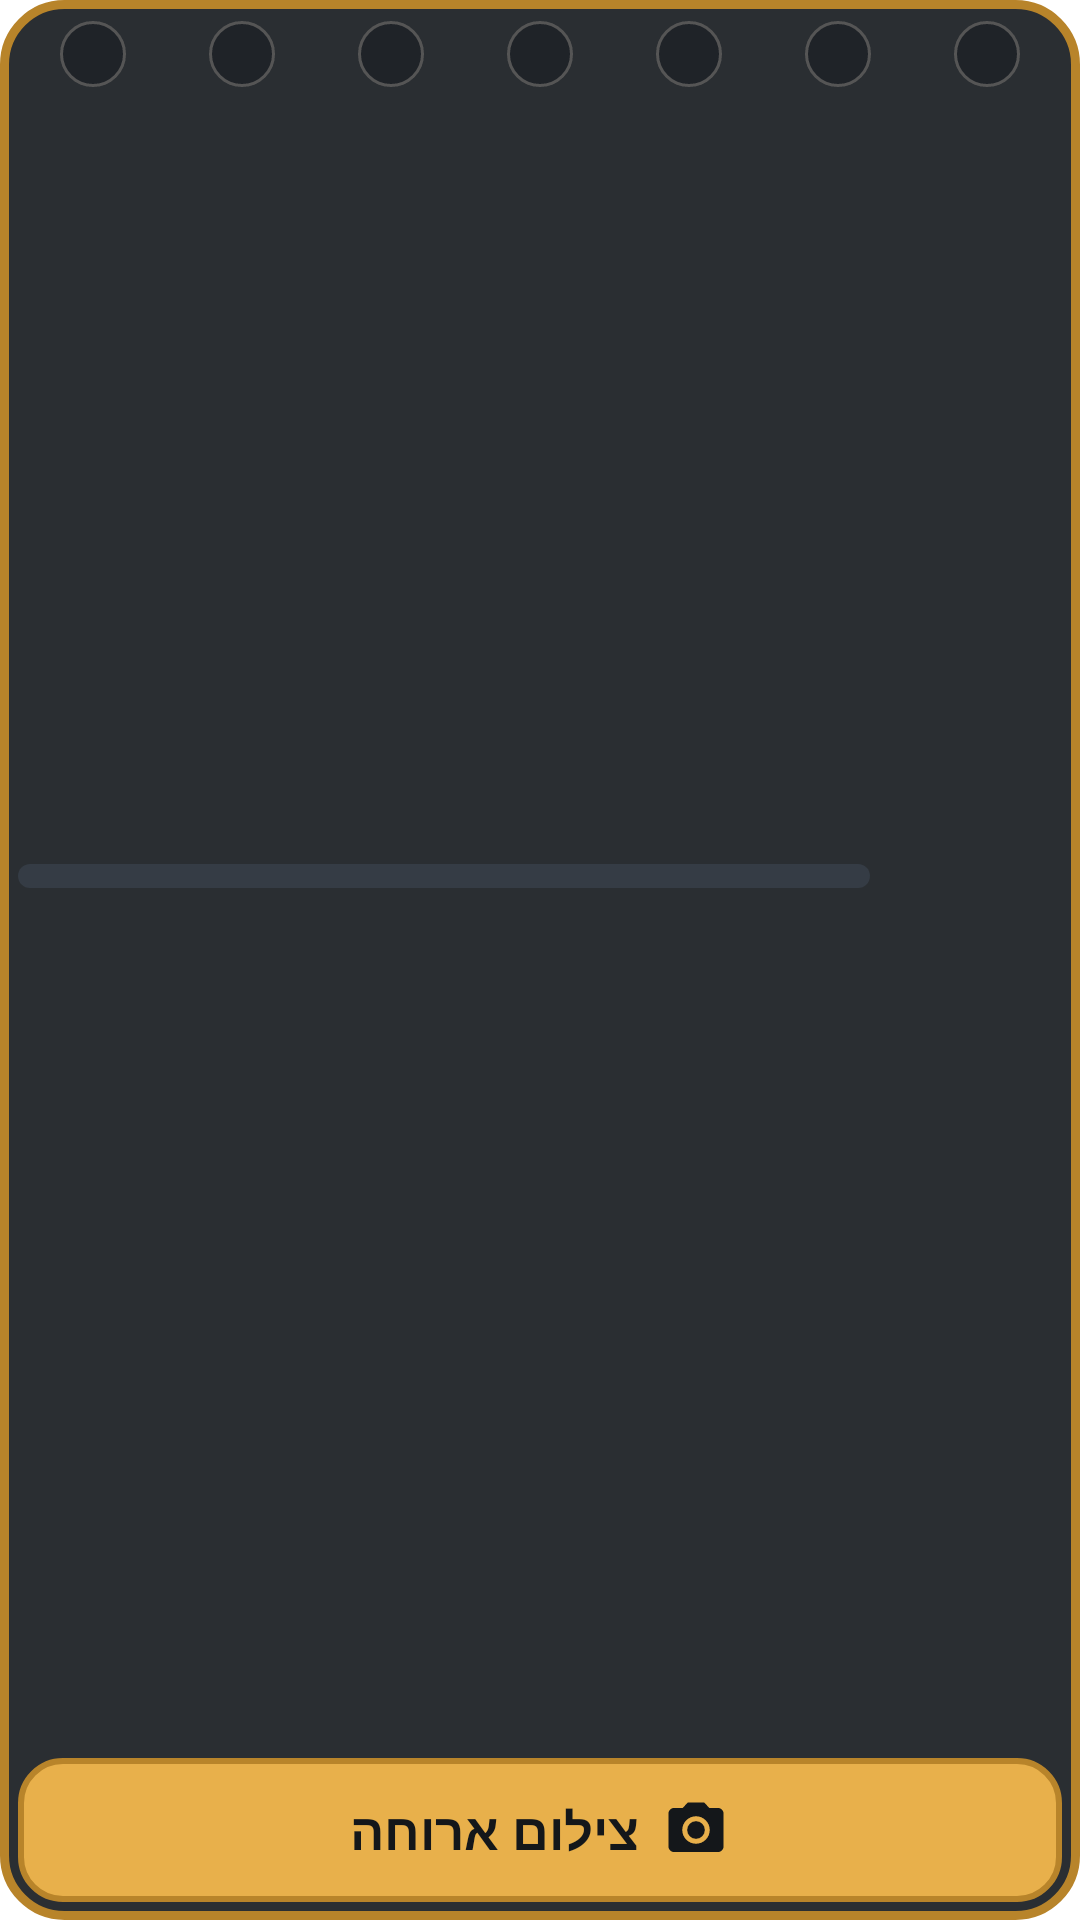

Screen size 1080px×1920px. Icon name, then its box in pixels as (x1, y1, x2, y2):
widget camera: (668, 1802, 724, 1852)
